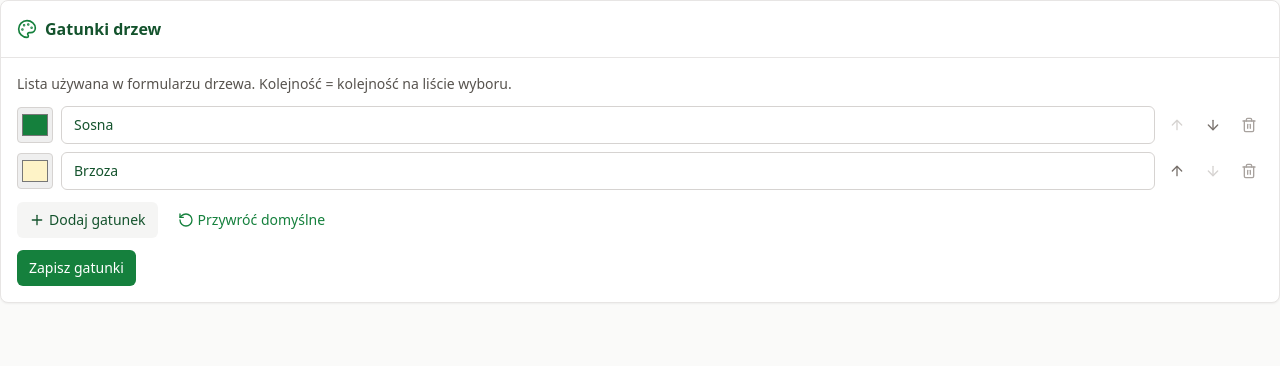
Test: SpeciesEditor › should add new species row
The width and height of the screenshot is (1280, 366).
Click the button with test id "species-add" at x=87, y=220, box [17,202,158,238]
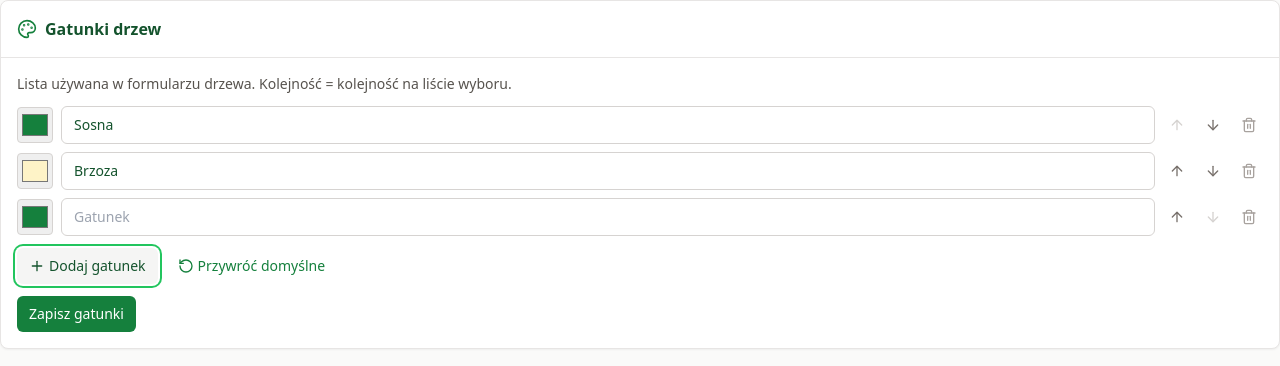
Now the field named "Nazwa gatunku 3" is shown, box [61,198,1155,236]
